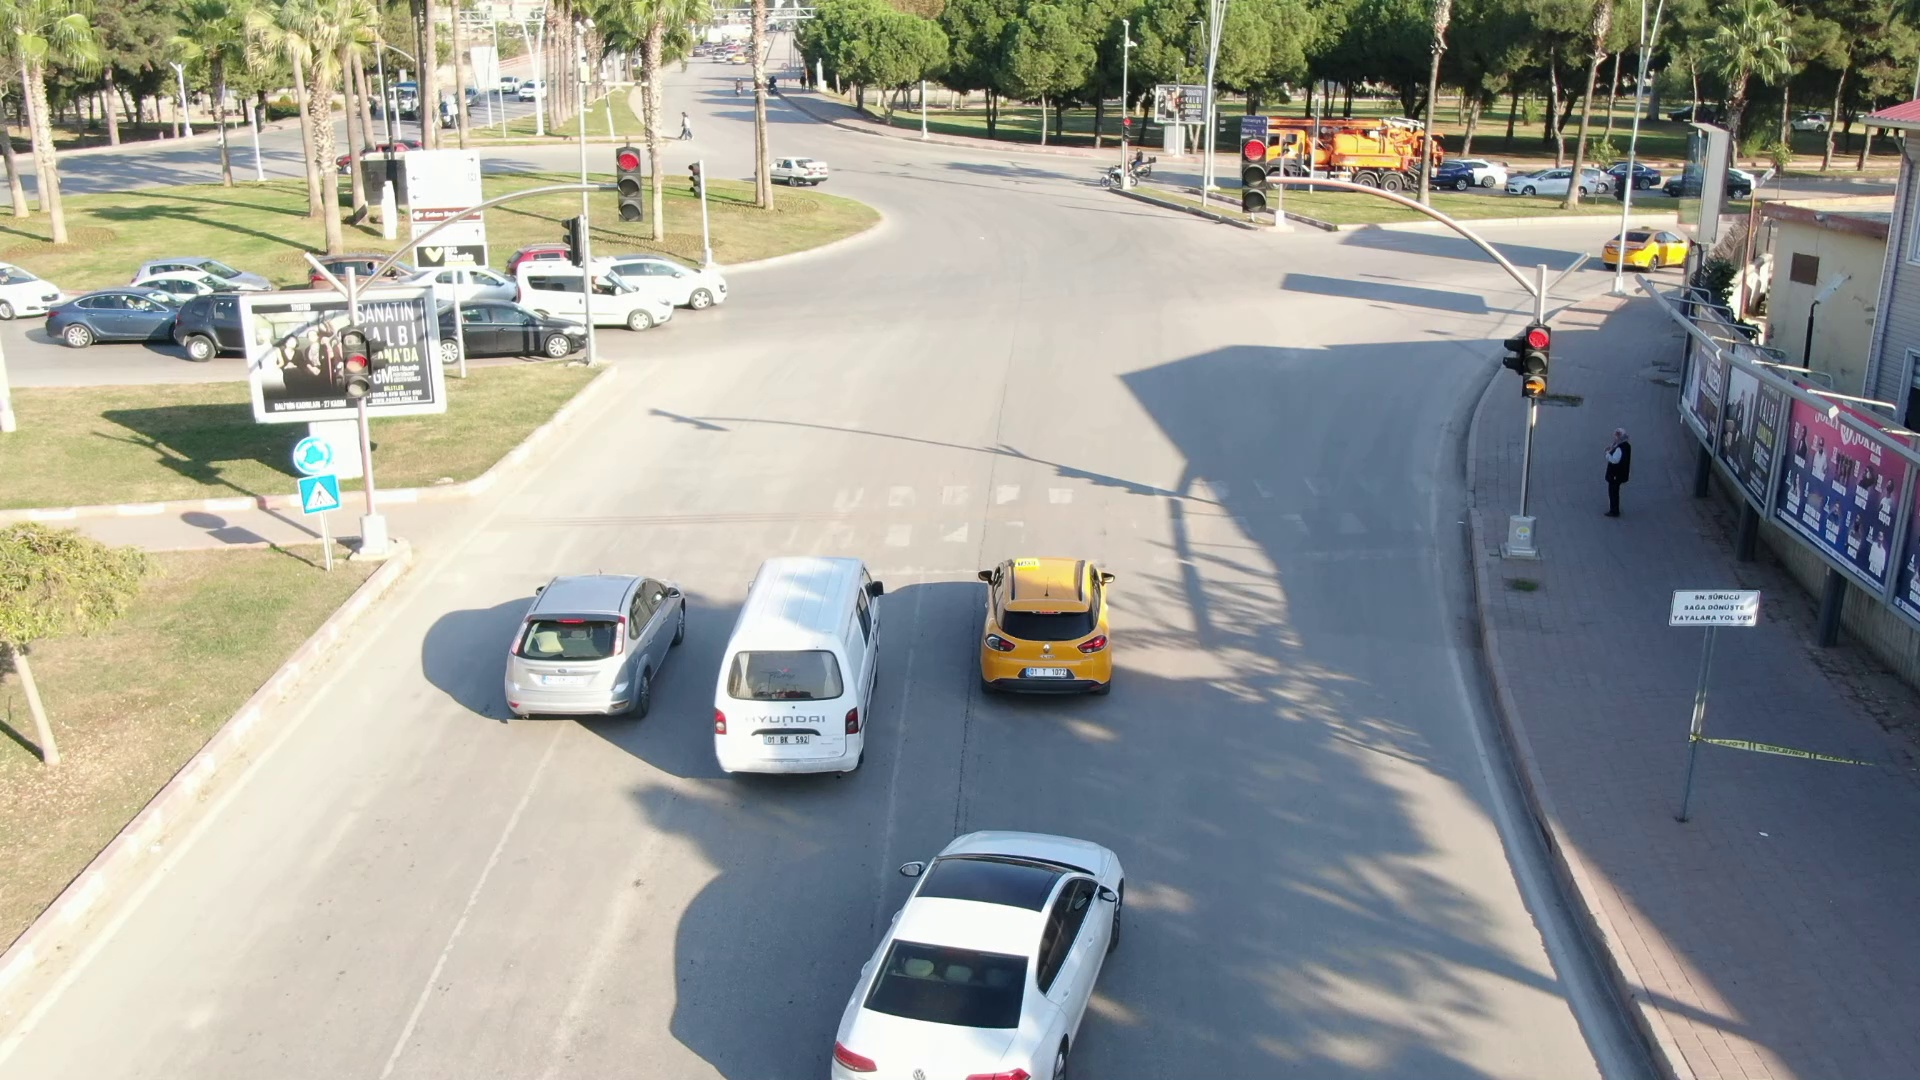car: (819, 827, 1147, 1080), (710, 541, 904, 790), (490, 563, 702, 729), (957, 549, 1127, 704), (502, 257, 678, 331), (423, 300, 606, 368), (610, 249, 727, 306), (1598, 219, 1702, 268), (766, 143, 837, 194)
person: (1588, 412, 1637, 521)
